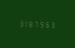eight: (27, 19, 31, 27)
nine: (37, 20, 41, 28)
one: (22, 19, 26, 27)
seven: (32, 19, 36, 27)
six: (42, 20, 46, 28)
three: (17, 19, 21, 27), (47, 20, 51, 28)
